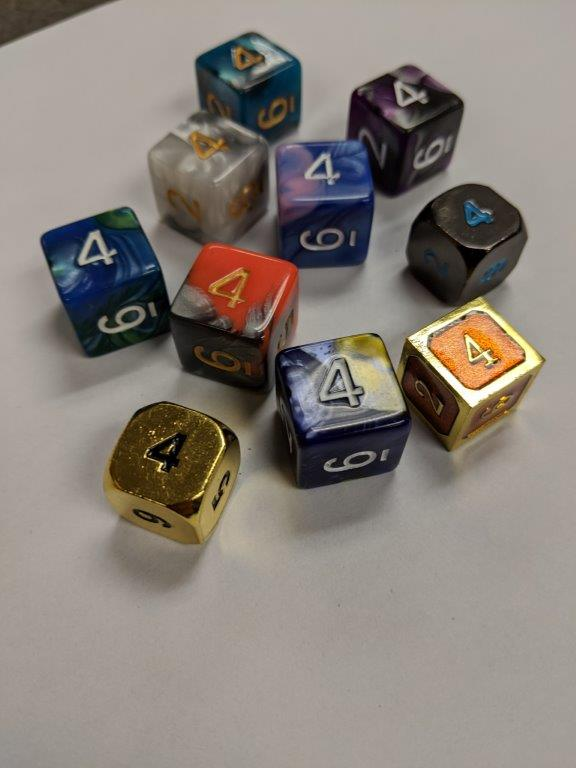d6-4: (398, 296, 544, 449), (271, 333, 413, 490), (100, 397, 242, 551), (38, 206, 173, 358), (167, 241, 302, 391), (147, 108, 270, 246), (403, 183, 530, 306), (349, 66, 464, 197), (274, 136, 375, 270), (195, 31, 308, 137)
